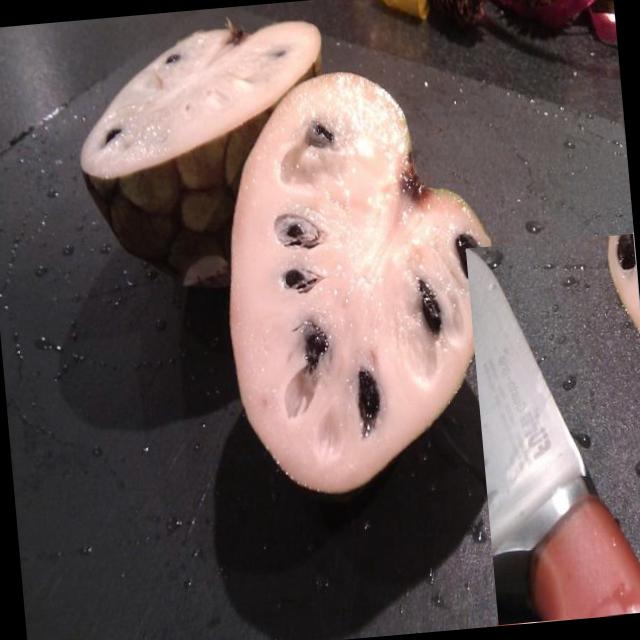Knife: (466, 249, 640, 621)
